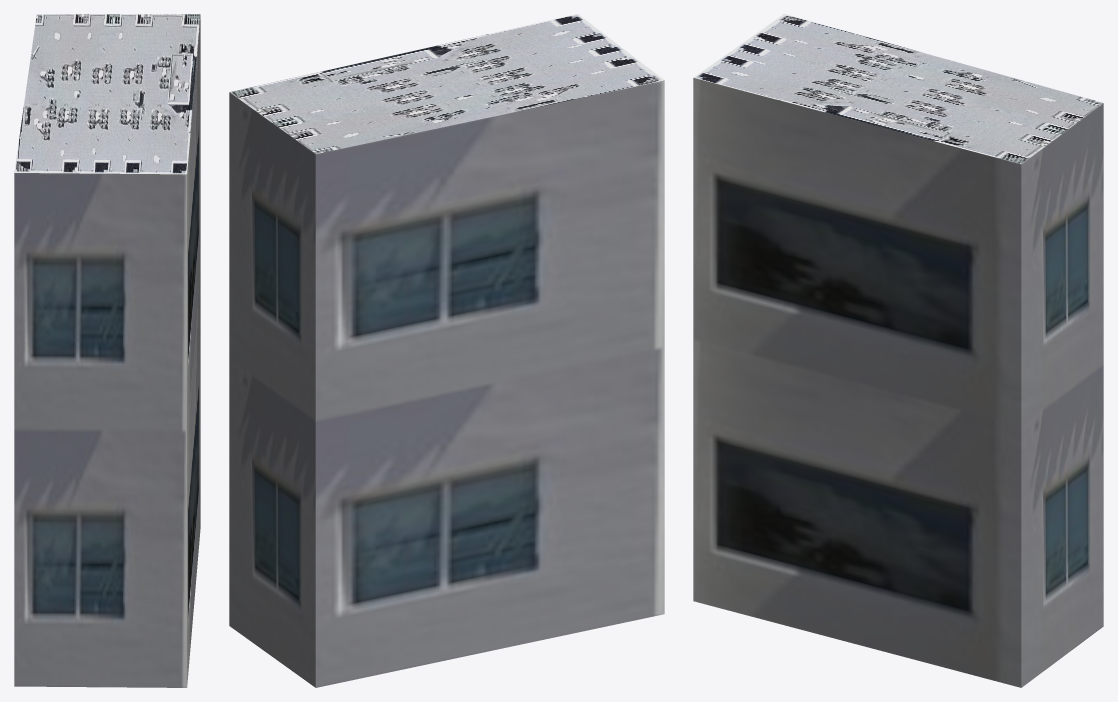
The model's file is ResTex__5013.fbx.
3 renders of one model, left to right at view 1: azimuth 30°, elevation 25°; view 2: azimuth 150°, elevation 25°; view 3: azimuth 270°, elevation 25°, orthographic. The views are drawn at different scales.
Parts seen in each view (by area): view 1: CityEngineMaterial_10_m, CityEngineMaterial_m; view 2: CityEngineMaterial_10_m, CityEngineMaterial_m; view 3: CityEngineMaterial_10_m, CityEngineMaterial_m.
Part boxes in pixels (x1,y1,x2,y2): CityEngineMaterial_10_m: [14, 16, 200, 687]; CityEngineMaterial_m: [14, 14, 200, 174]; CityEngineMaterial_10_m: [229, 80, 664, 687]; CityEngineMaterial_m: [229, 14, 664, 153]; CityEngineMaterial_10_m: [693, 78, 1103, 687]; CityEngineMaterial_m: [693, 14, 1103, 164].
Bounding box in the file's own units: 3.7 × 6 × 4.26.
Materials: 2 (2 with a texture image).
